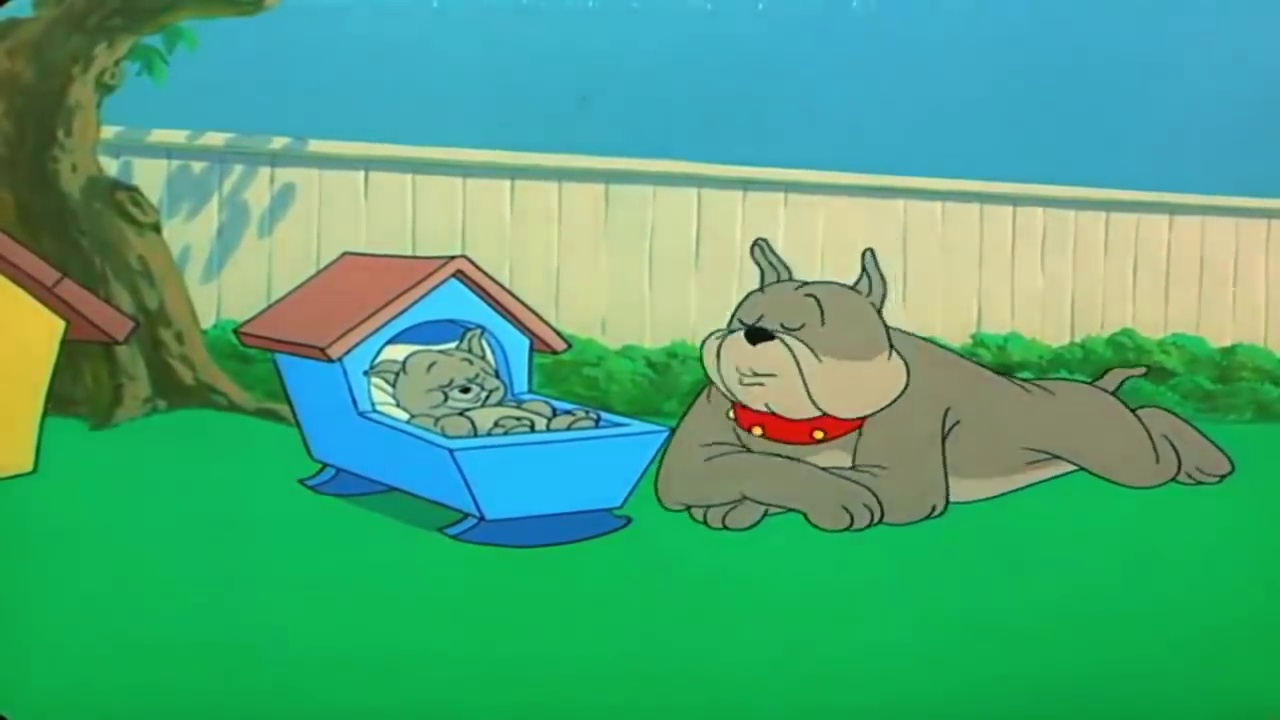spike: (700, 227, 912, 443)
